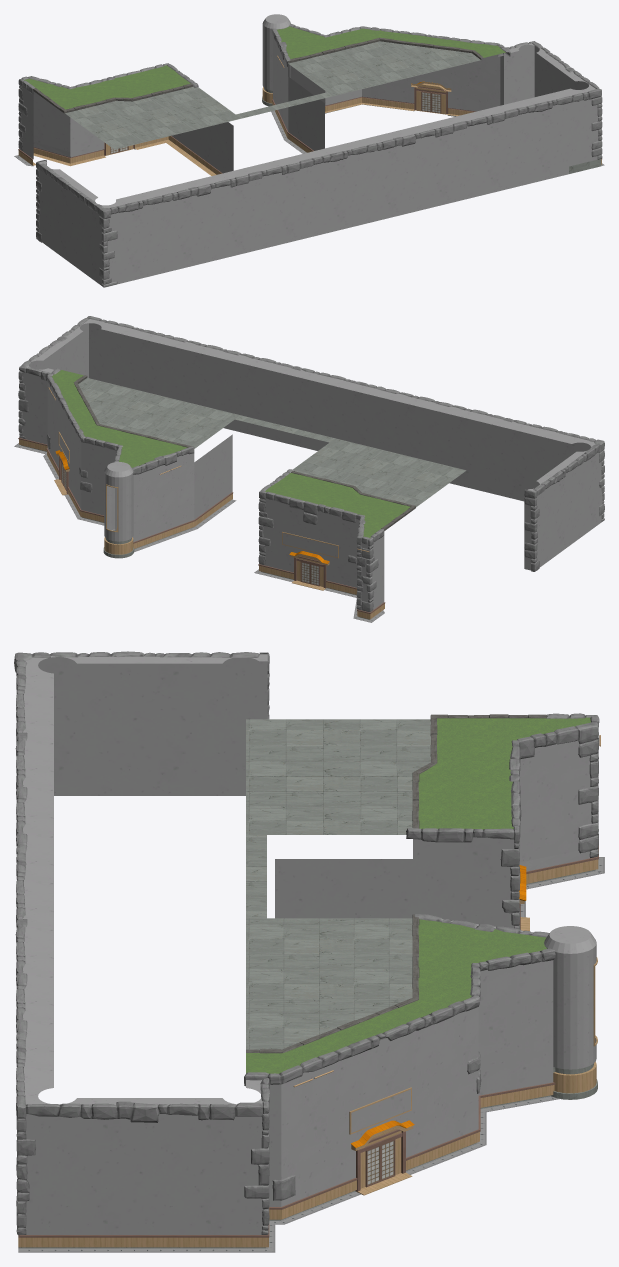
File: SM_ENV_KNVLLG_AreaH_Wall_A.fbx
3 renders of one model, top to bottom at view 1: azimuth 30°, elevation 25°; view 2: azimuth 150°, elevation 25°; view 3: azimuth 270°, elevation 25°, orthographic. The views are drawn at different scales.
Parts seen in each view (by area): view 1: SM_ENV_KNVLLG_AreaH_Wall_A.mo; view 2: SM_ENV_KNVLLG_AreaH_Wall_A.mo; view 3: SM_ENV_KNVLLG_AreaH_Wall_A.mo.
Boxes of the visible parts, left/top/right/bottom form: SM_ENV_KNVLLG_AreaH_Wall_A.mo: left=14, top=14, right=604, bottom=287; SM_ENV_KNVLLG_AreaH_Wall_A.mo: left=14, top=316, right=604, bottom=622; SM_ENV_KNVLLG_AreaH_Wall_A.mo: left=14, top=651, right=604, bottom=1252.
Bounding box in the file's own units: 16807 × 2661 × 9177.
